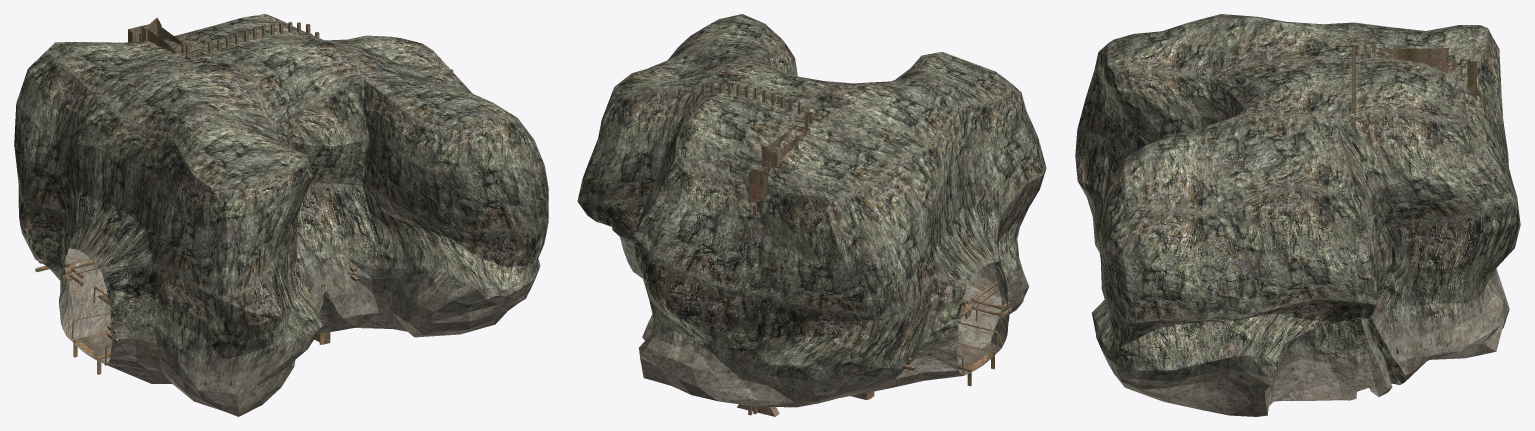
The model's file is poi_all_bunker_mad_bio_s01_r23_cavecage1_mesh_r23.fbx.
3 views of the same model, side by side, from view 1: azimuth 30°, elevation 25°; view 2: azimuth 150°, elevation 25°; view 3: azimuth 270°, elevation 25° (orthographic). The views are drawn at different scales.
Parts seen in each view (by area): view 1: mesh_node; view 2: mesh_node; view 3: mesh_node.
Boxes of the visible parts, left/top/right/bottom form: mesh_node: left=14, top=14, right=548, bottom=416; mesh_node: left=577, top=14, right=1046, bottom=416; mesh_node: left=1075, top=14, right=1520, bottom=416.
Bounding box in the file's own units: 27.67 × 20.09 × 26.37.
